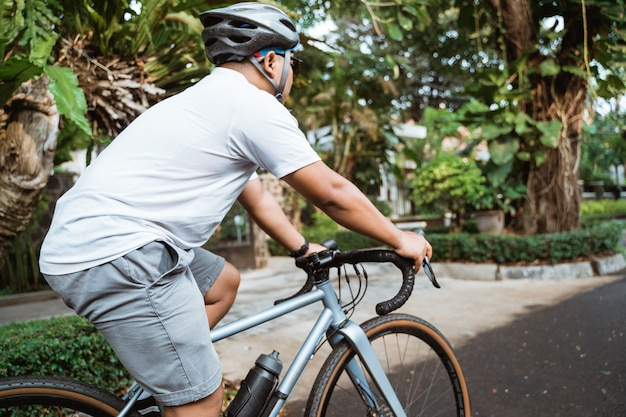helmet: (200, 2, 300, 103)
